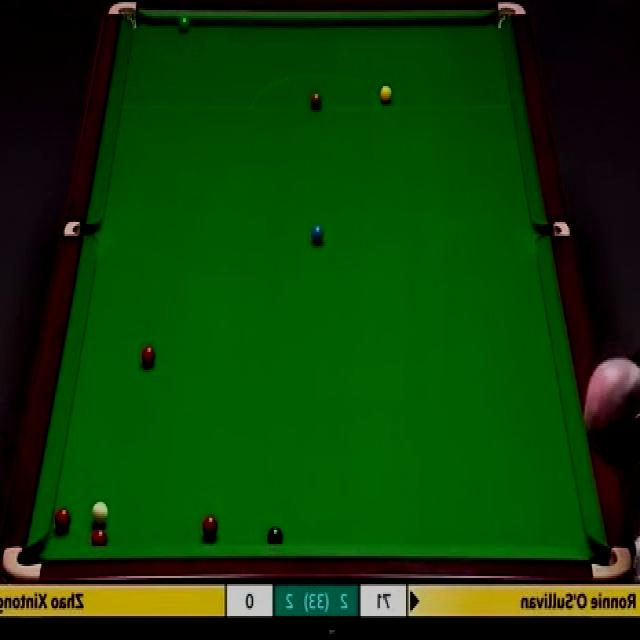pocket: (3, 542, 46, 582), (591, 543, 634, 580), (108, 0, 140, 32), (495, 2, 528, 29), (63, 218, 100, 237), (536, 222, 570, 238)
